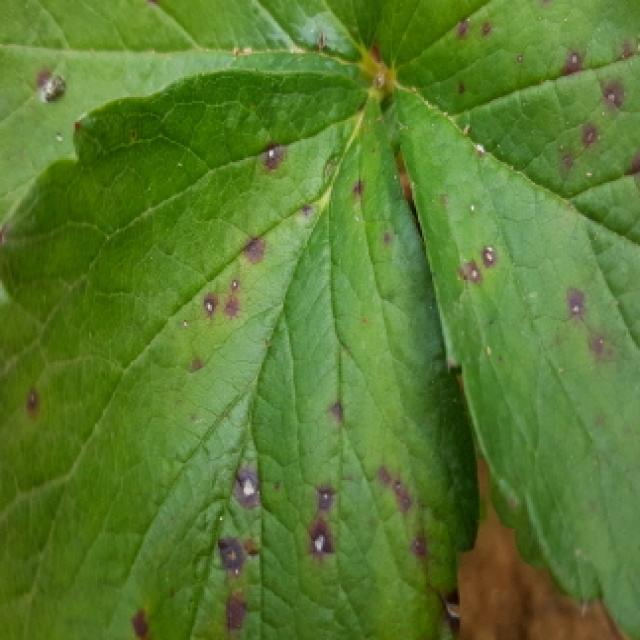Leaf Spot: (0, 68, 480, 640), (374, 0, 640, 640)
